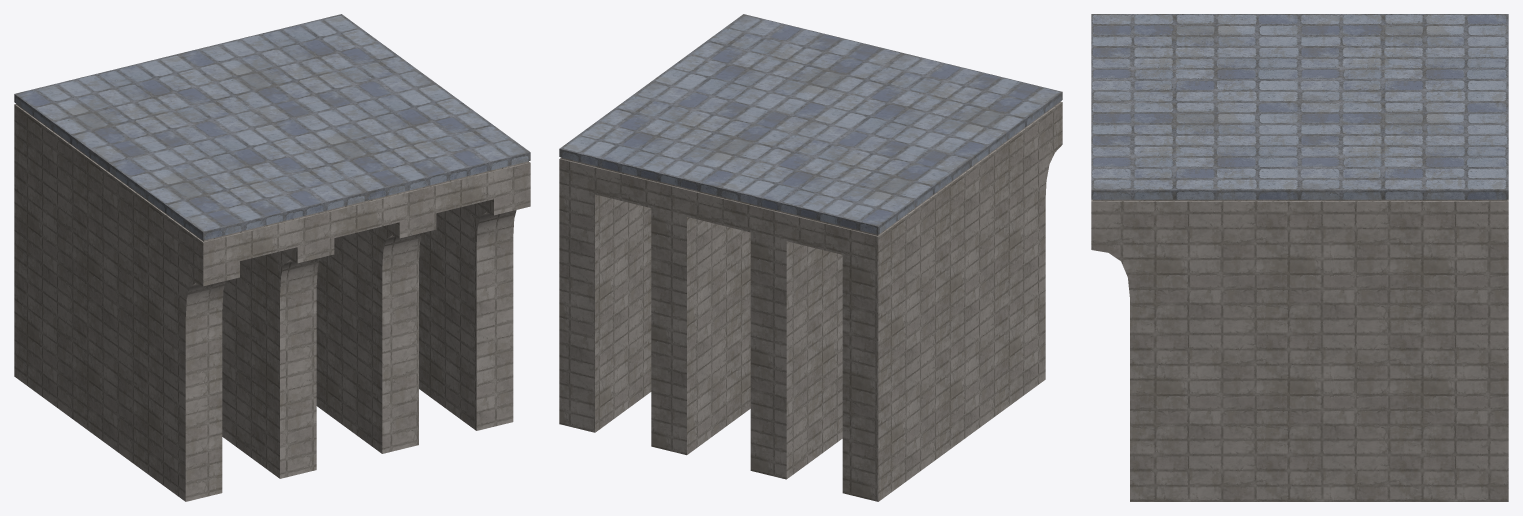
File: SewerSet4_25mV1.fbx
The picture shows the model from 3 angles, left to right: view 1: azimuth 30°, elevation 25°; view 2: azimuth 150°, elevation 25°; view 3: azimuth 270°, elevation 25°; orthographic projection. The views are drawn at different scales.
Parts seen in each view (by area): view 1: Box096; view 2: Box096; view 3: Box096.
Part boxes in pixels (left/top/right/bottom): Box096: left=14, top=14, right=530, bottom=501; Box096: left=559, top=14, right=1062, bottom=501; Box096: left=1091, top=14, right=1508, bottom=501.
Size of the model in its own units: 2500 by 2061 by 2500.
